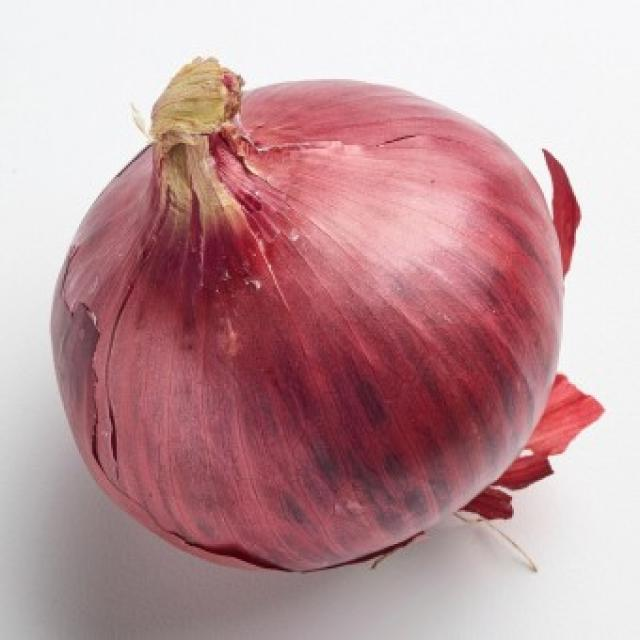onion: (30, 70, 615, 597)
